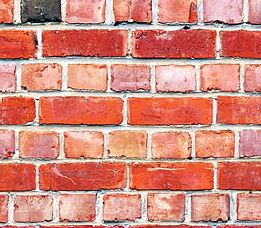brick: (38, 27, 130, 59), (38, 160, 129, 191), (130, 28, 217, 59), (127, 96, 214, 126), (38, 98, 126, 127), (128, 160, 215, 189), (219, 28, 261, 61), (215, 162, 261, 192), (12, 192, 55, 224), (216, 96, 261, 126), (20, 61, 64, 91), (199, 62, 241, 93), (101, 190, 143, 221), (110, 62, 152, 92), (155, 63, 197, 93), (19, 129, 61, 159), (193, 128, 235, 158), (1, 27, 40, 59), (58, 190, 99, 220), (108, 129, 150, 157), (189, 193, 231, 221), (66, 62, 109, 89), (1, 162, 37, 193), (150, 131, 192, 157), (64, 130, 105, 156), (156, 1, 200, 25), (147, 193, 186, 220), (1, 97, 36, 126), (202, 1, 246, 24), (111, 1, 154, 24), (66, 1, 107, 24), (19, 1, 63, 22), (237, 192, 261, 222), (240, 129, 261, 157), (243, 62, 261, 94), (1, 62, 17, 93), (1, 1, 16, 26), (1, 129, 14, 156), (248, 1, 261, 23), (1, 195, 10, 224)
